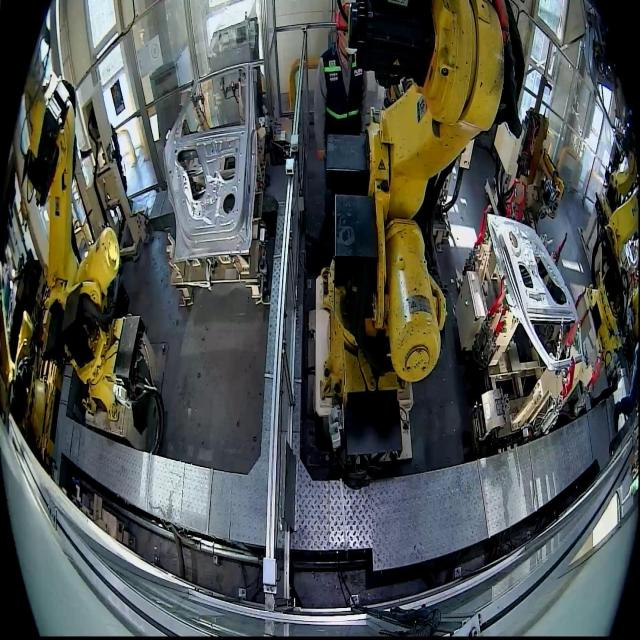Person: (313, 1, 368, 238)
